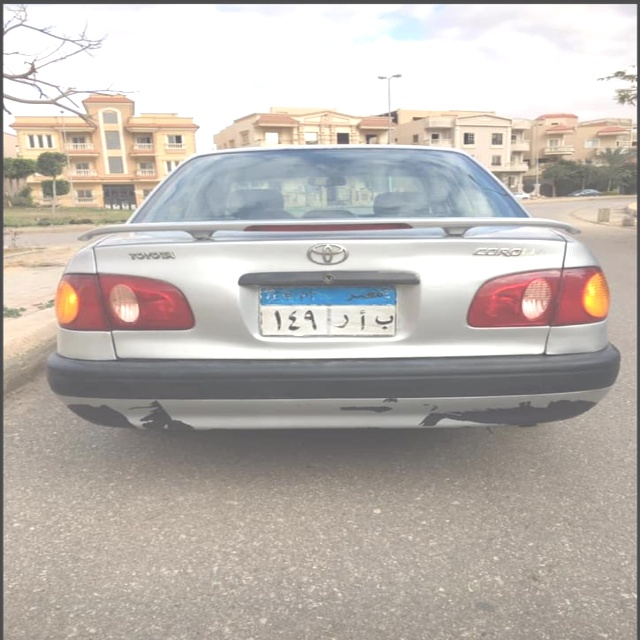License Plate: (256, 283, 400, 339)
